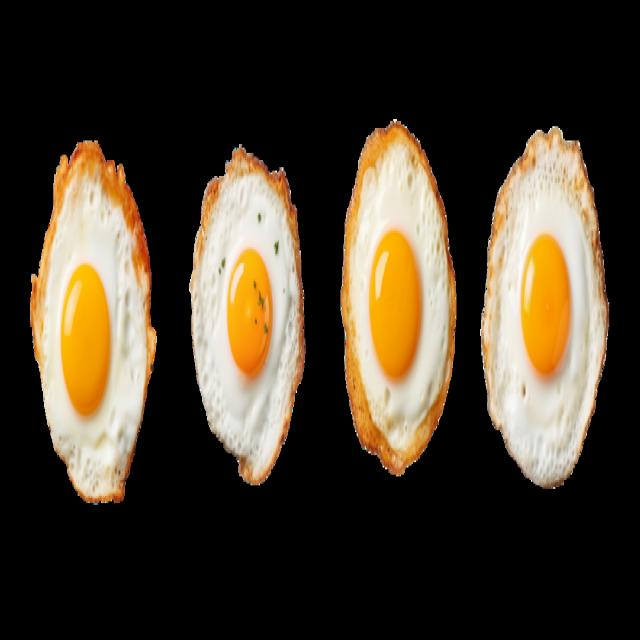Egg: (481, 128, 609, 486), (30, 143, 156, 503), (341, 120, 456, 471), (190, 146, 305, 484)
